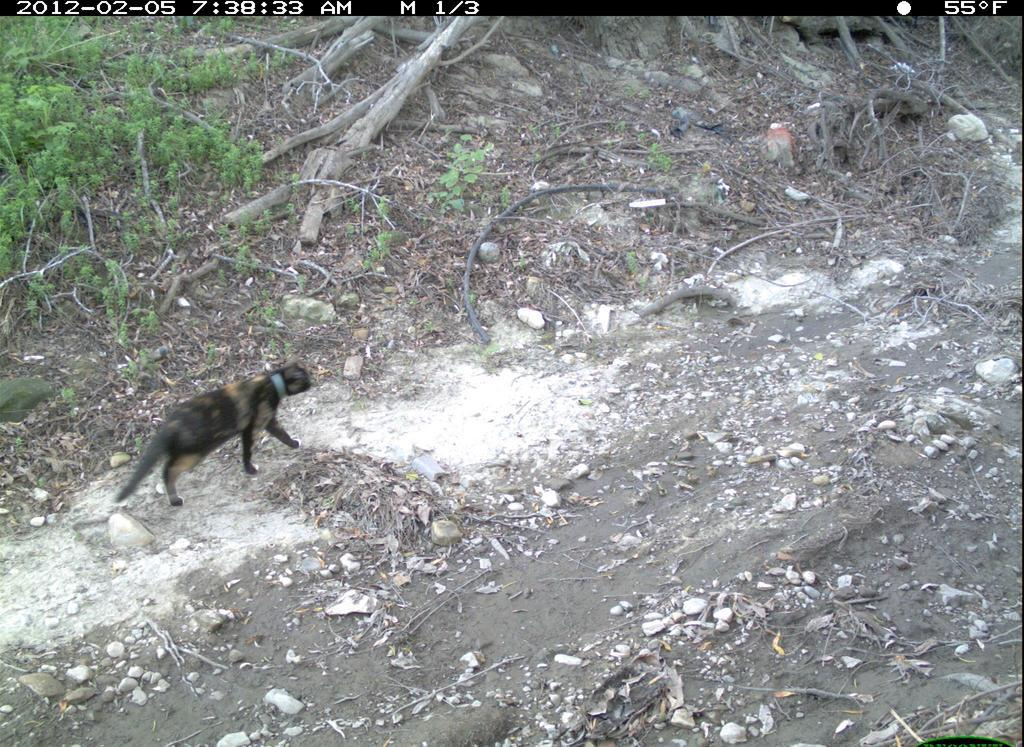cat: (109, 361, 319, 513)
